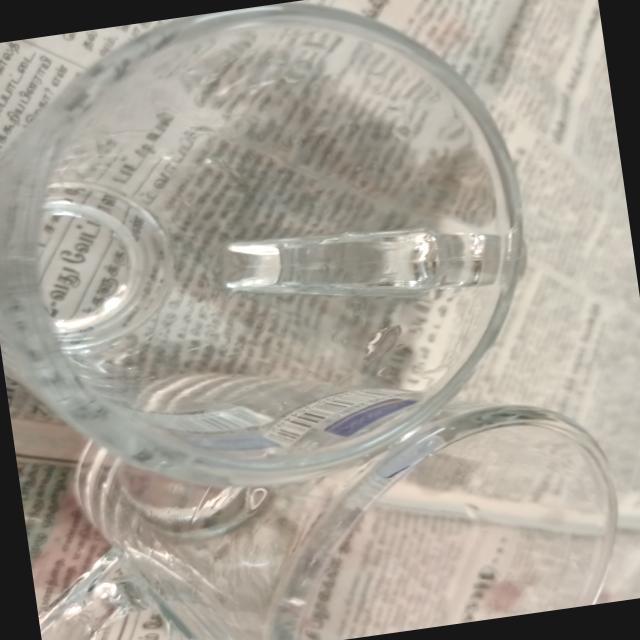glass-VX4N: (0, 0, 552, 515), (8, 313, 640, 640)
